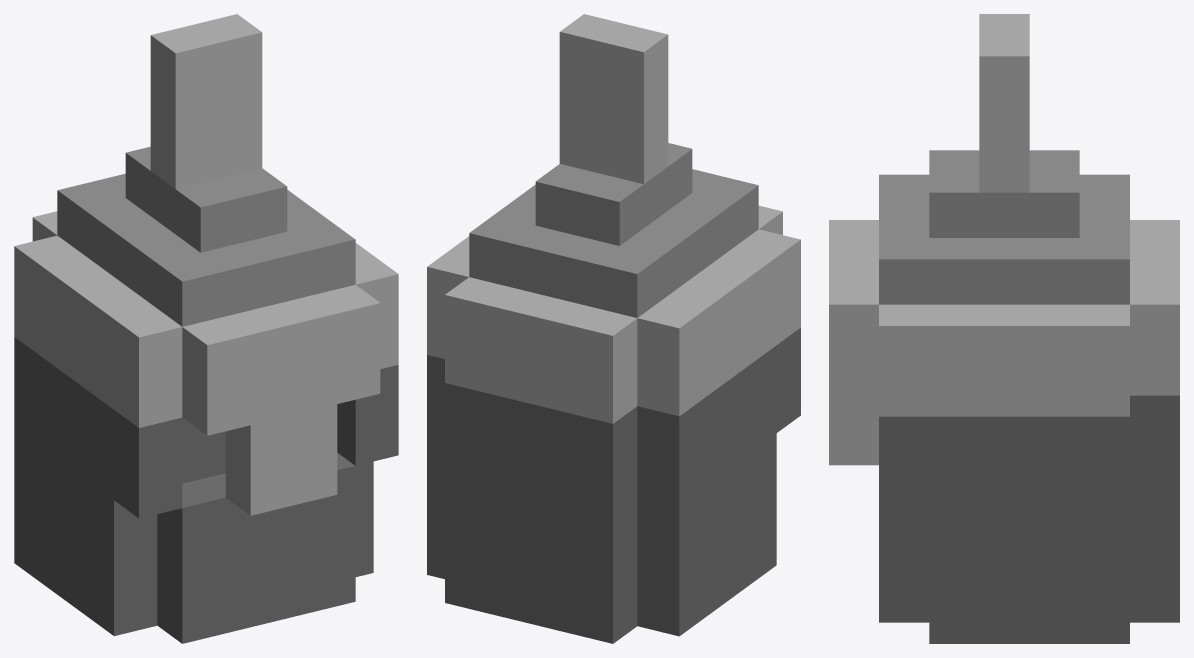
Rendered from char-5-helm_hvy_2b_sh.obj.
The picture shows the model from 3 angles, left to right: view 1: azimuth 30°, elevation 25°; view 2: azimuth 150°, elevation 25°; view 3: azimuth 270°, elevation 25°; orthographic projection. The views are drawn at different scales.
Parts seen in each view (by area): view 1: helm_hvy_2b_sh; view 2: helm_hvy_2b_sh; view 3: helm_hvy_2b_sh.
Part boxes in pixels (x1,y1,x2,y2): helm_hvy_2b_sh: (14, 14, 398, 643); helm_hvy_2b_sh: (427, 14, 800, 643); helm_hvy_2b_sh: (829, 14, 1179, 643).
Size of the model in its own units: 0.6 by 1.2 by 0.7.
1 material, 1 textured.
